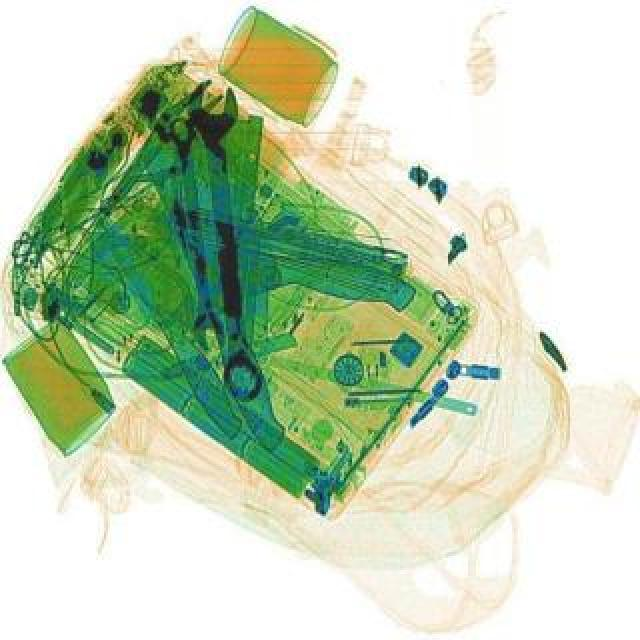knife: (74, 220, 418, 372), (132, 148, 290, 458), (102, 244, 250, 444)
scissors: (188, 82, 260, 408), (166, 118, 222, 354)
